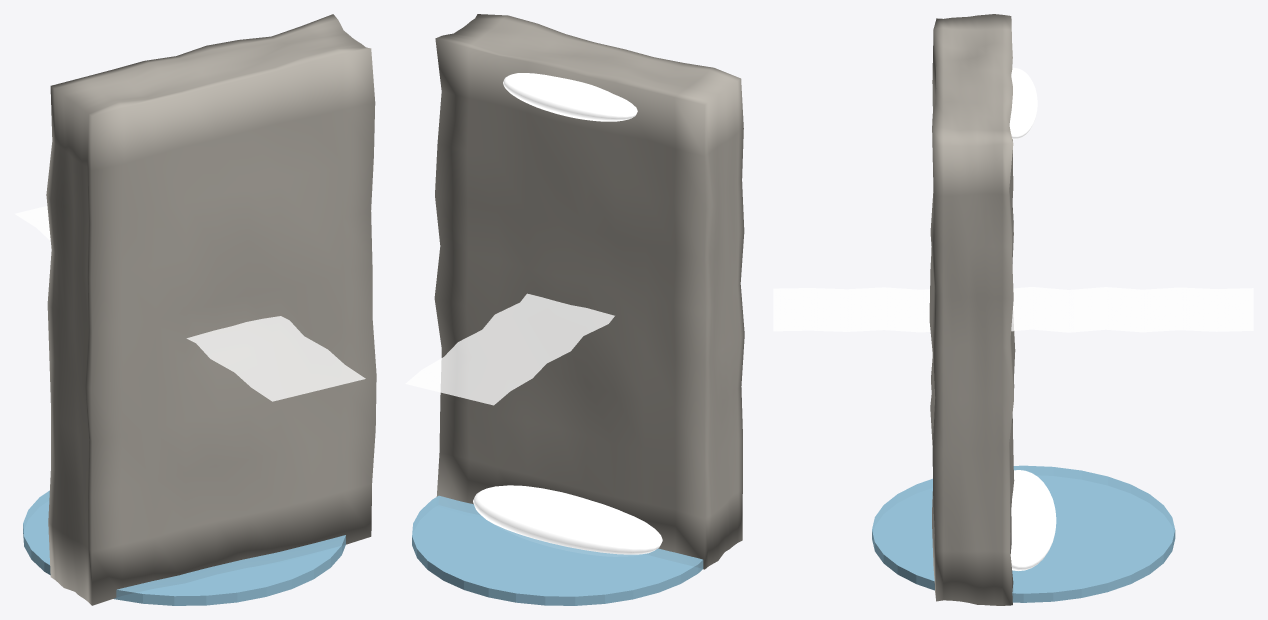
File: waterfall.glb
The picture shows the model from 3 angles, left to right: view 1: azimuth 30°, elevation 25°; view 2: azimuth 150°, elevation 25°; view 3: azimuth 270°, elevation 25°; orthographic projection. The views are drawn at different scales.
Parts seen in each view (by area): view 1: Cliff, Pool, WaterfallStream; view 2: Cliff, Pool, WaterfallStream, FoamBottom, FoamTop; view 3: Cliff, Pool, WaterfallStream, FoamBottom, FoamTop.
Boxes of the visible parts, box(x1,y1,x2,y2) form: Cliff: box(46, 14, 376, 605); Pool: box(23, 490, 345, 605); WaterfallStream: box(15, 206, 365, 401); Cliff: box(434, 14, 744, 569); Pool: box(412, 495, 703, 605); WaterfallStream: box(405, 293, 614, 405); FoamBottom: box(473, 485, 662, 554); FoamTop: box(503, 73, 637, 121); Cliff: box(929, 14, 1015, 605); Pool: box(872, 465, 1175, 602); WaterfallStream: box(773, 287, 1253, 332); FoamBottom: box(1010, 470, 1056, 570); FoamTop: box(1009, 67, 1037, 139).
Bounding box in the file's own units: 12.4 × 20.45 × 19.
